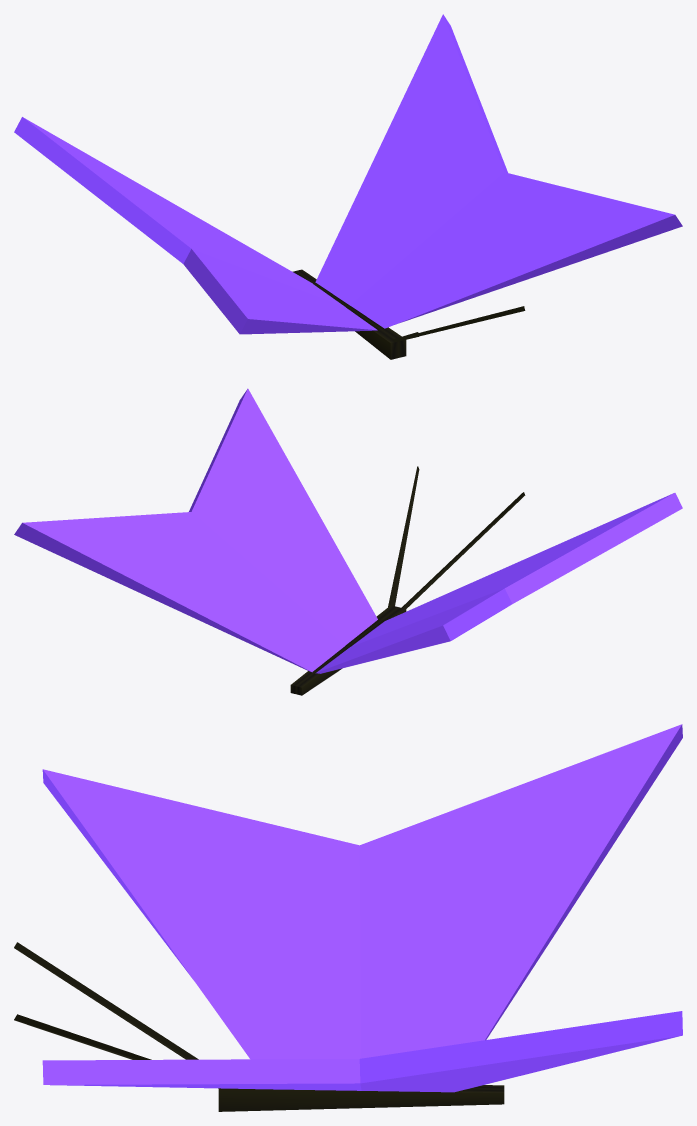
Rendered from Butterfly.glb.
3 views of the same model, one above another, from view 1: azimuth 30°, elevation 25°; view 2: azimuth 150°, elevation 25°; view 3: azimuth 270°, elevation 25° (orthographic). The views are drawn at different scales.
Visible parts, largest first — view 1: BUTTERFLY; view 2: BUTTERFLY; view 3: BUTTERFLY.
Boxes of the visible parts, x1=… form: BUTTERFLY: x1=14, y1=14, x2=682, y2=359; BUTTERFLY: x1=14, y1=388, x2=682, y2=695; BUTTERFLY: x1=14, y1=724, x2=682, y2=1111.
Size of the model in its own units: 0.3612 by 0.1333 by 0.338.
1 material, 1 textured.
